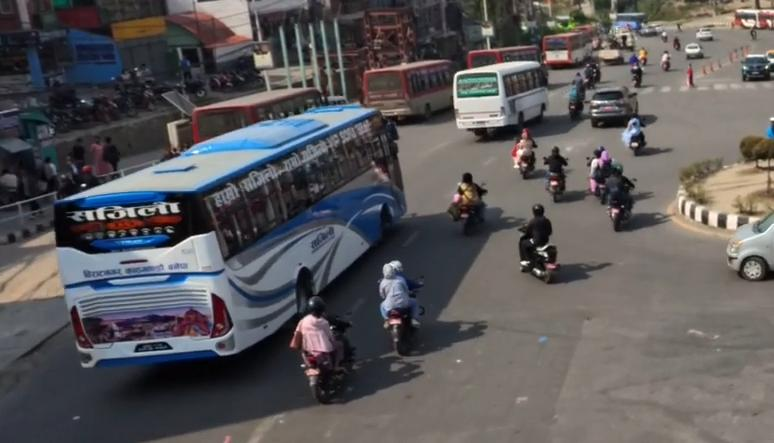bus: (41, 96, 411, 377), (447, 57, 551, 135)
